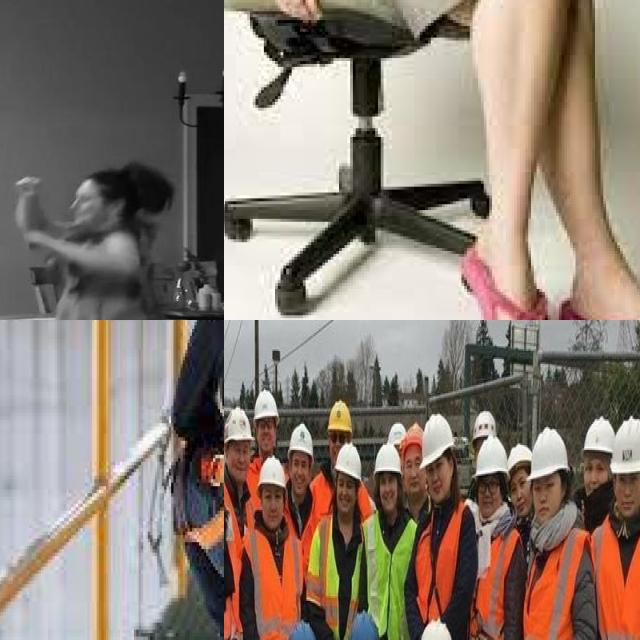No_Ear-Protection: (109, 192, 126, 228)
face_nomask: (508, 463, 534, 520), (534, 469, 560, 520), (426, 456, 454, 502), (614, 469, 640, 516), (261, 487, 284, 533), (480, 471, 502, 518), (404, 450, 425, 499), (63, 201, 98, 228), (230, 438, 250, 482), (586, 460, 606, 500), (378, 474, 399, 512), (292, 454, 310, 498), (338, 471, 354, 517), (258, 416, 277, 453)
glasses: (476, 472, 499, 498)
hand_noglove: (3, 166, 50, 213)
head_helmet: (424, 412, 453, 470), (530, 430, 568, 474), (476, 435, 509, 481), (612, 419, 640, 472), (584, 414, 621, 452), (334, 443, 364, 481), (345, 612, 384, 640), (258, 455, 288, 490), (287, 426, 317, 458), (224, 409, 253, 441), (506, 438, 536, 468), (374, 447, 402, 479), (328, 403, 354, 432), (253, 390, 278, 419), (417, 620, 453, 640), (284, 622, 321, 640), (473, 409, 499, 432), (386, 424, 405, 447), (408, 421, 424, 448)
person: (0, 161, 224, 320), (421, 419, 478, 625), (474, 433, 527, 640), (527, 433, 578, 640), (367, 449, 422, 640), (596, 422, 640, 640), (316, 452, 374, 617), (248, 465, 302, 617), (224, 404, 258, 571), (288, 424, 314, 552), (578, 404, 612, 500), (250, 378, 284, 459), (510, 430, 534, 523), (404, 421, 430, 504)
vest: (522, 531, 583, 640), (367, 515, 419, 640), (315, 518, 368, 640), (418, 508, 468, 627), (250, 531, 301, 640), (469, 523, 515, 640), (594, 523, 640, 640), (224, 503, 252, 640)
